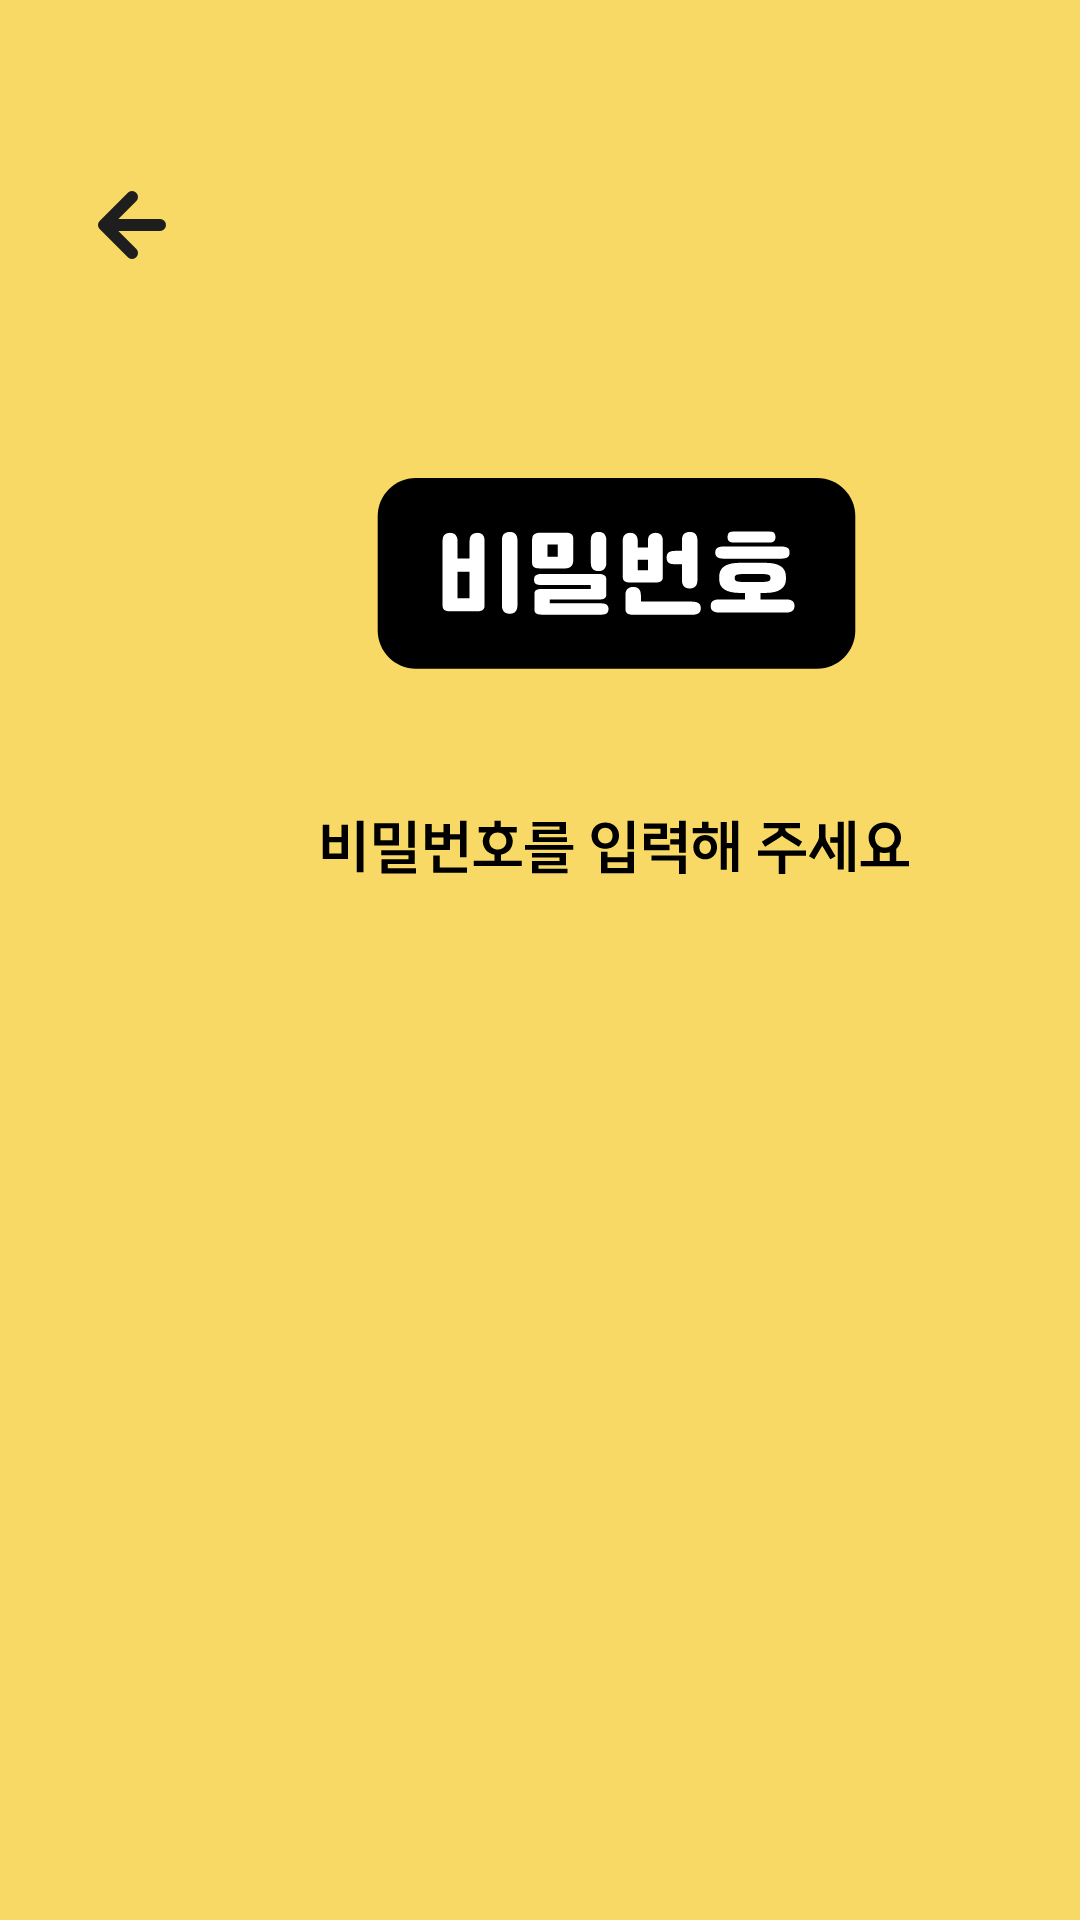

Icons on this 1080 × 1920 Android screen, each with the point to tap as (x=x, y=y):
arrow left: (x=132, y=225)
